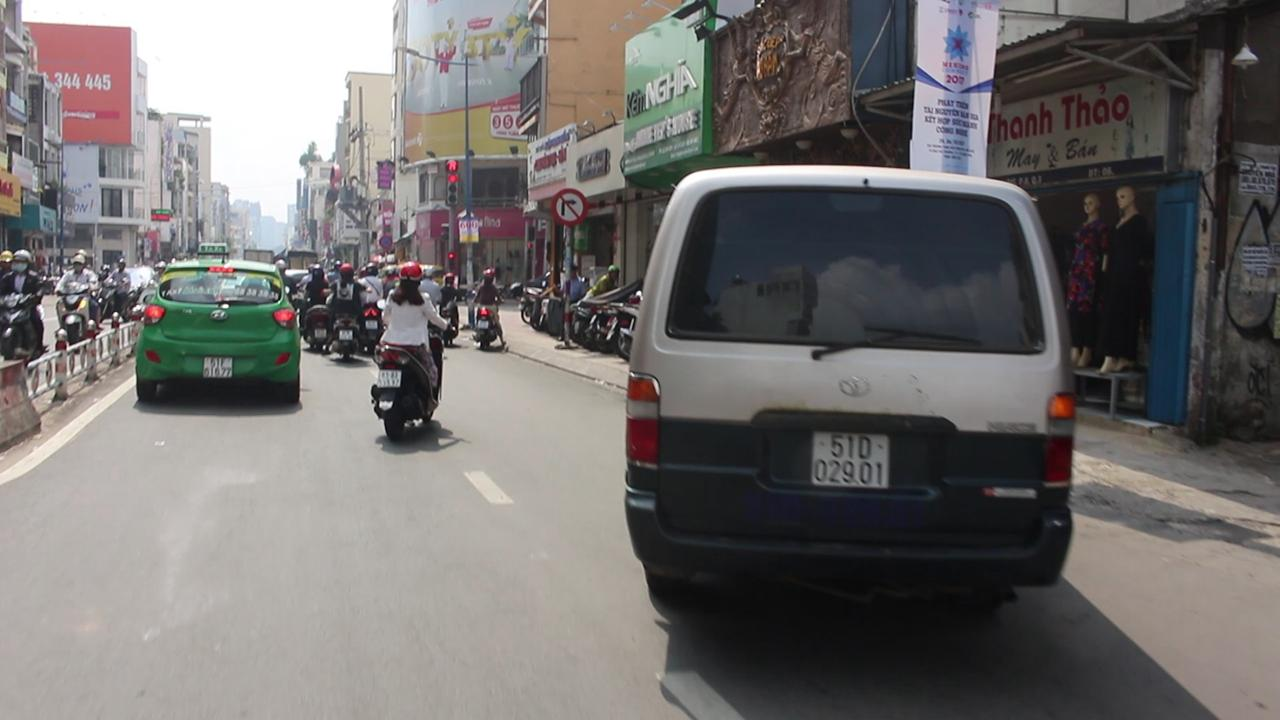P.112: (551, 187, 588, 226)
